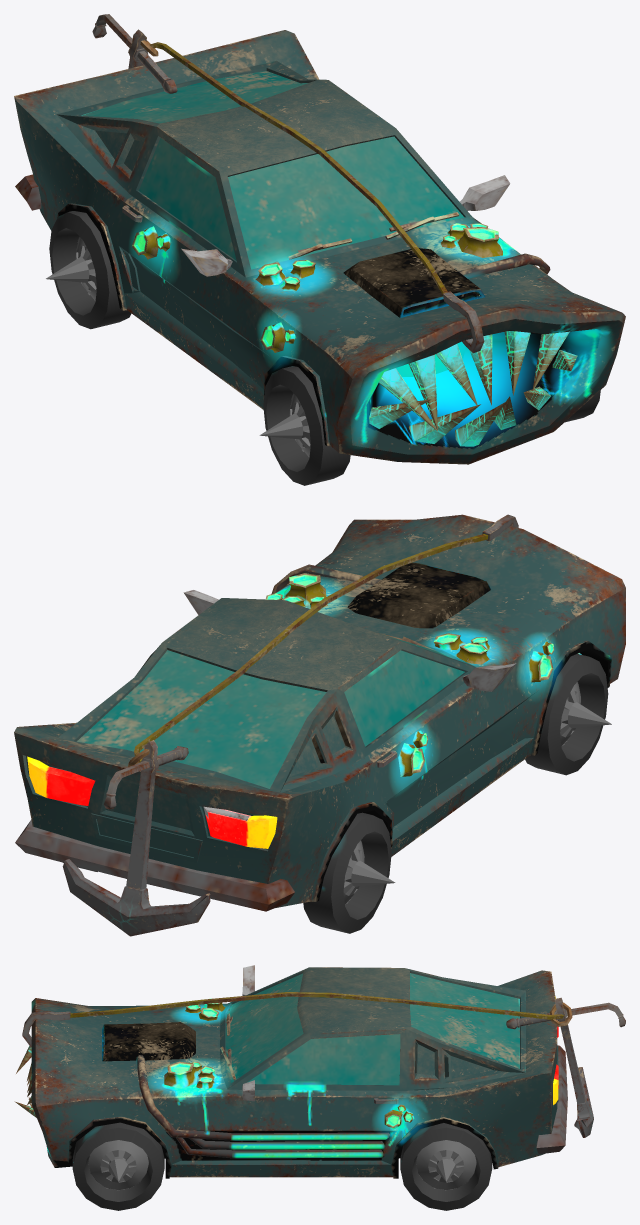
File: CoinracerGT-Mutate.fbx
3 views of the same model, one above another, from view 1: azimuth 30°, elevation 25°; view 2: azimuth 150°, elevation 25°; view 3: azimuth 270°, elevation 25° (orthographic). The views are drawn at different scales.
Parts seen in each view (by area): view 1: CoinracerGT-MUTATE, CoinracerGT-WheelFR, CoinracerGT-WheelBR; view 2: CoinracerGT-MUTATE, CoinracerGT-WheelBR, CoinracerGT-WheelFR; view 3: CoinracerGT-MUTATE, CoinracerGT-WheelFL, CoinracerGT-WheelBL.
Boxes of the visible parts, left/top/right/bottom form: CoinracerGT-MUTATE: left=14, top=14, right=625, bottom=464; CoinracerGT-WheelFR: left=259, top=366, right=350, bottom=485; CoinracerGT-WheelBR: left=46, top=211, right=131, bottom=329; CoinracerGT-MUTATE: left=14, top=514, right=625, bottom=936; CoinracerGT-WheelBR: left=303, top=812, right=395, bottom=933; CoinracerGT-WheelFR: left=525, top=653, right=611, bottom=775; CoinracerGT-MUTATE: left=14, top=965, right=625, bottom=1178; CoinracerGT-WheelFL: left=72, top=1122, right=164, bottom=1210; CoinracerGT-WheelBL: left=400, top=1123, right=492, bottom=1210.
Size of the model in its own units: 185 by 110 by 369.
